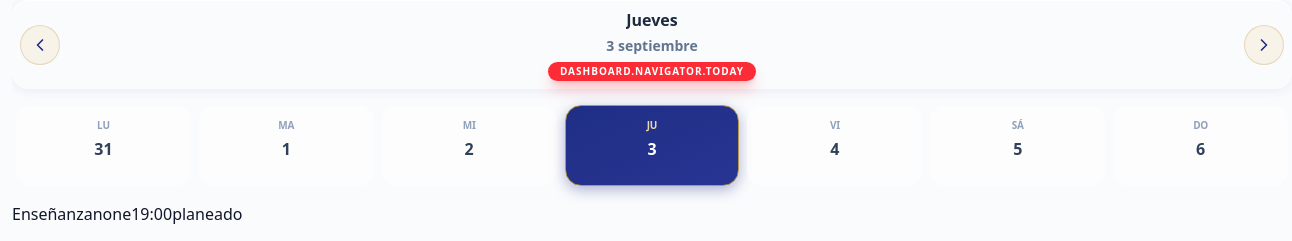
Test: CultoNavigator › con rango SSR, siguiente muestra el culto al instante sin pedir el día
Expected: the element with test id "dashboard-nav-date" is shown, [548, 9, 756, 81]
Click the button with test id "dashboard-nav-next" at coordinates (1264, 44), box [1244, 24, 1284, 64]
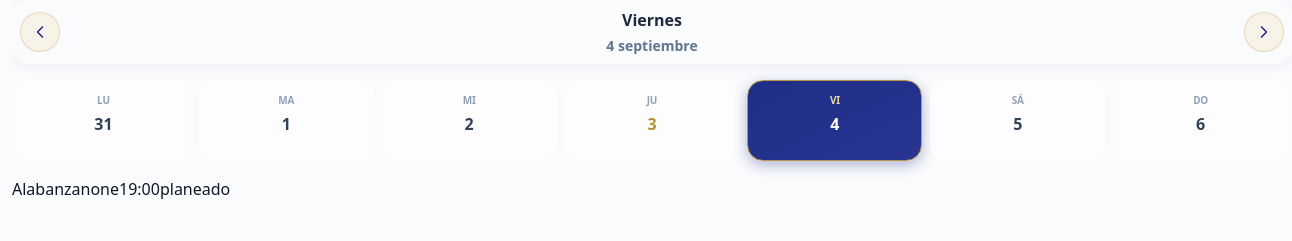
Expected: the text with test id "culto-nombre" reads "Alabanza", [12, 178, 80, 200]
Click the button with test id "dashboard-nav-next" at coordinates (1264, 32), box [1244, 12, 1284, 52]
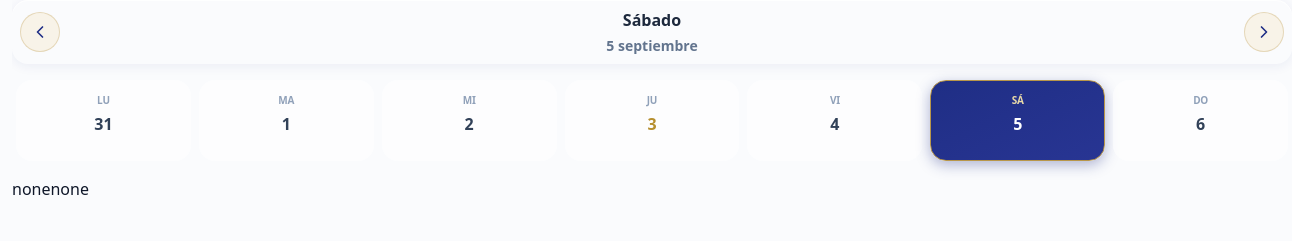
Expected: the text with test id "culto-nombre" reads "none", [12, 178, 50, 200]
